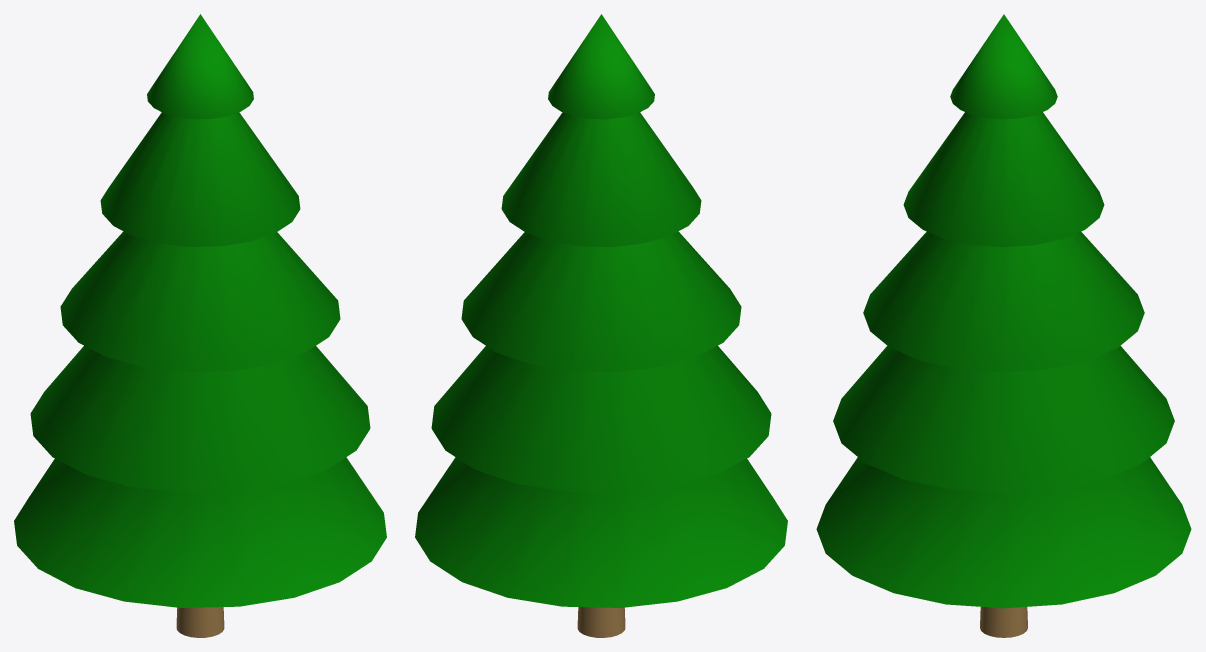
The model's file is back_ground_pine01.fbx.
3 renders of one model, left to right at view 1: azimuth 30°, elevation 25°; view 2: azimuth 150°, elevation 25°; view 3: azimuth 270°, elevation 25°, orthographic.
Parts seen in each view (by area): view 1: back_ground_pine01; view 2: back_ground_pine01; view 3: back_ground_pine01.
Boxes of the visible parts, x1,y1,x2,y2 form: back_ground_pine01: (14, 14, 386, 637); back_ground_pine01: (415, 14, 787, 637); back_ground_pine01: (816, 14, 1191, 637).
Bounding box in the file's own units: 15.56 × 28.1 × 15.56.
